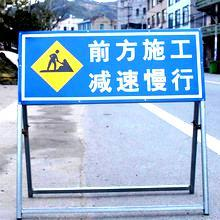sign: (20, 33, 203, 100)
